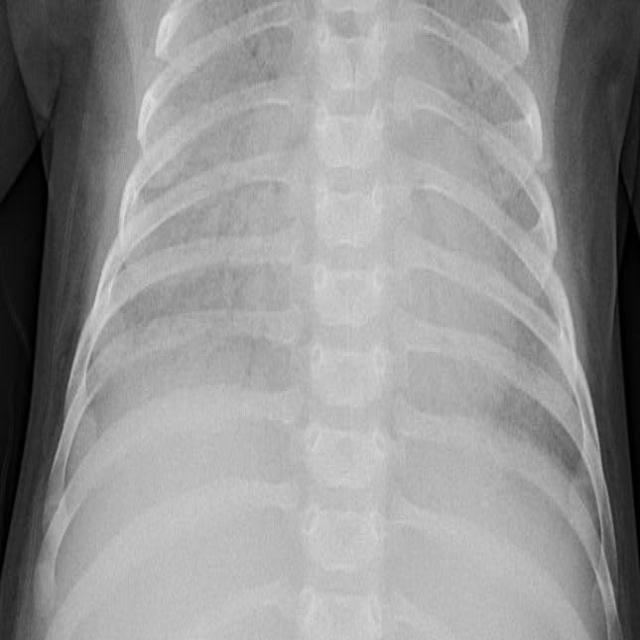high-pneumonia: (80, 3, 319, 474)
low-pneumonia: (454, 28, 599, 445)
